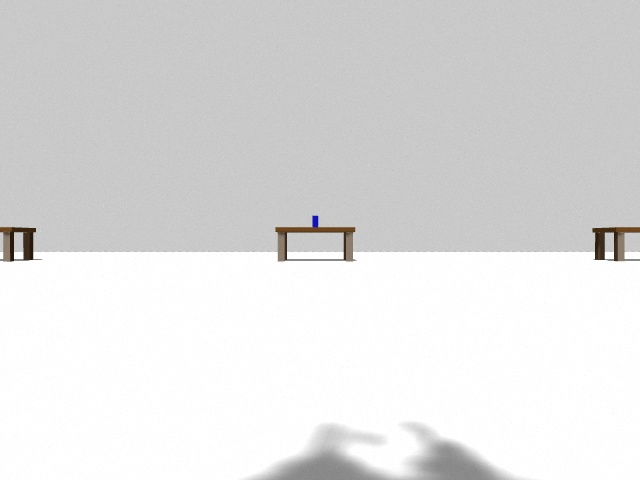blue_cube: (312, 216, 318, 227)
